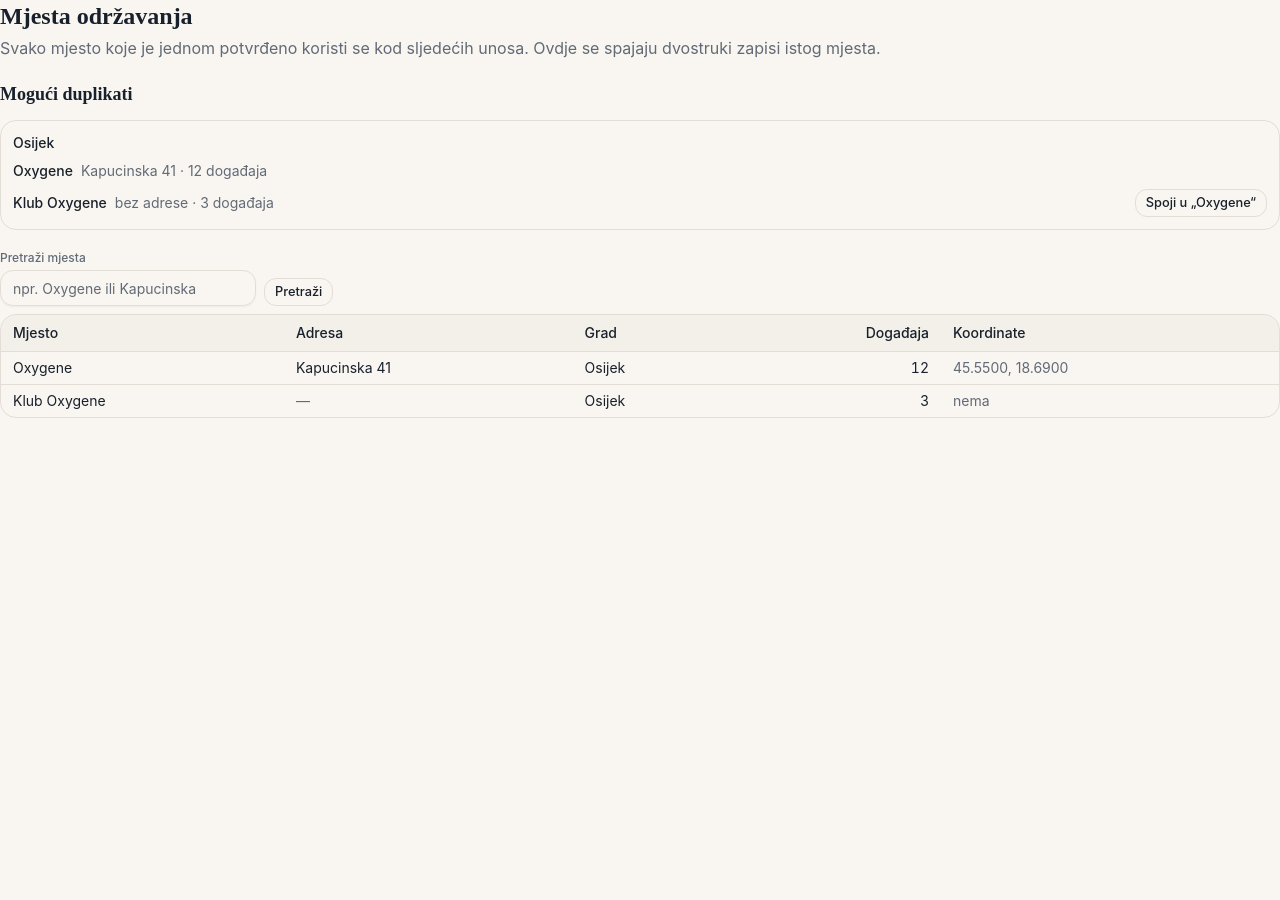
Test: venues admin page › spells out the consequence before merging anything
The width and height of the screenshot is (1280, 900).
Click the button "Spoji u „Oxygene“": (1201, 203) [1135,189,1267,217]
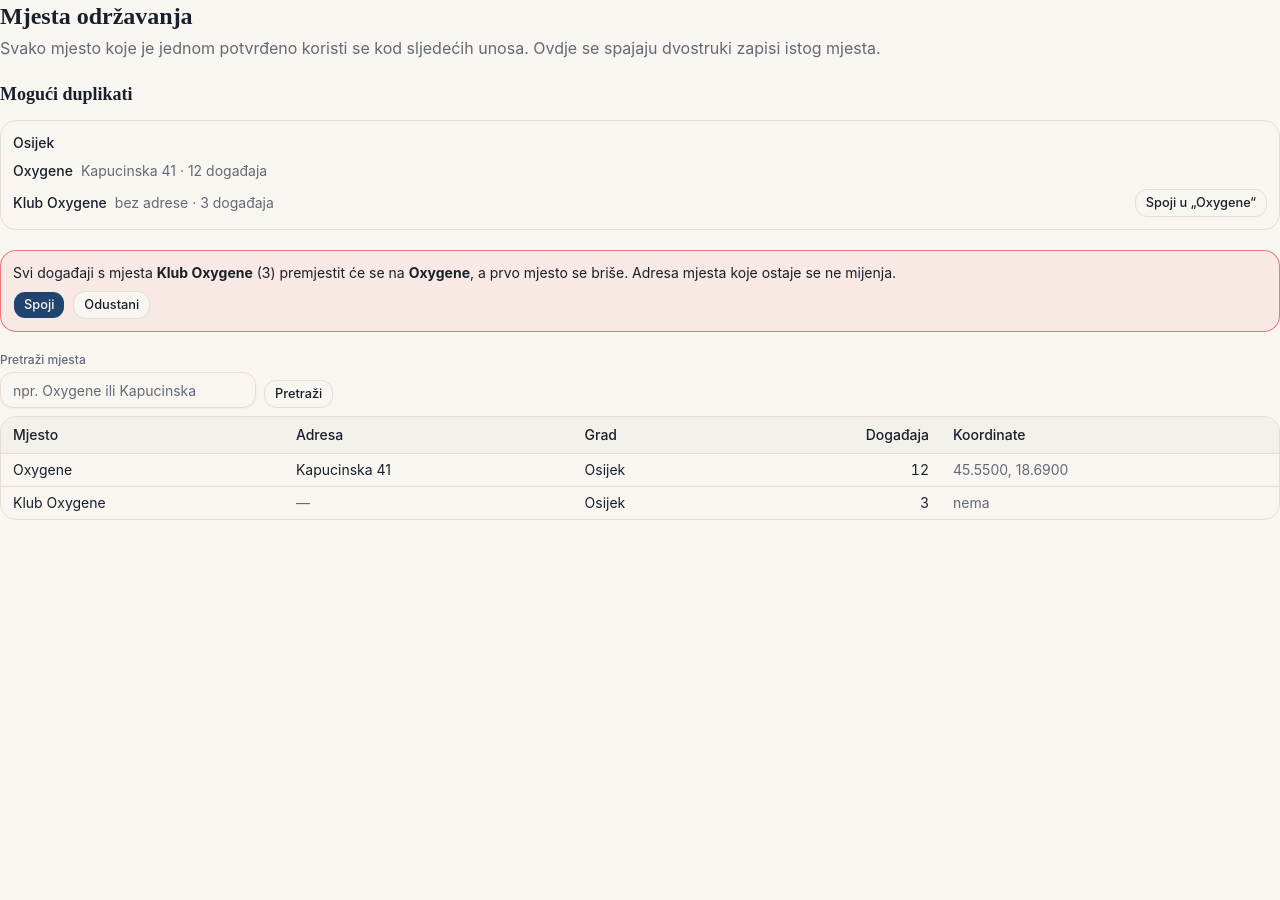
Check: the dialog shows "premjestit će se", box [270,264,405,281]
Check: the dialog shows "briše", box [470,264,896,281]
